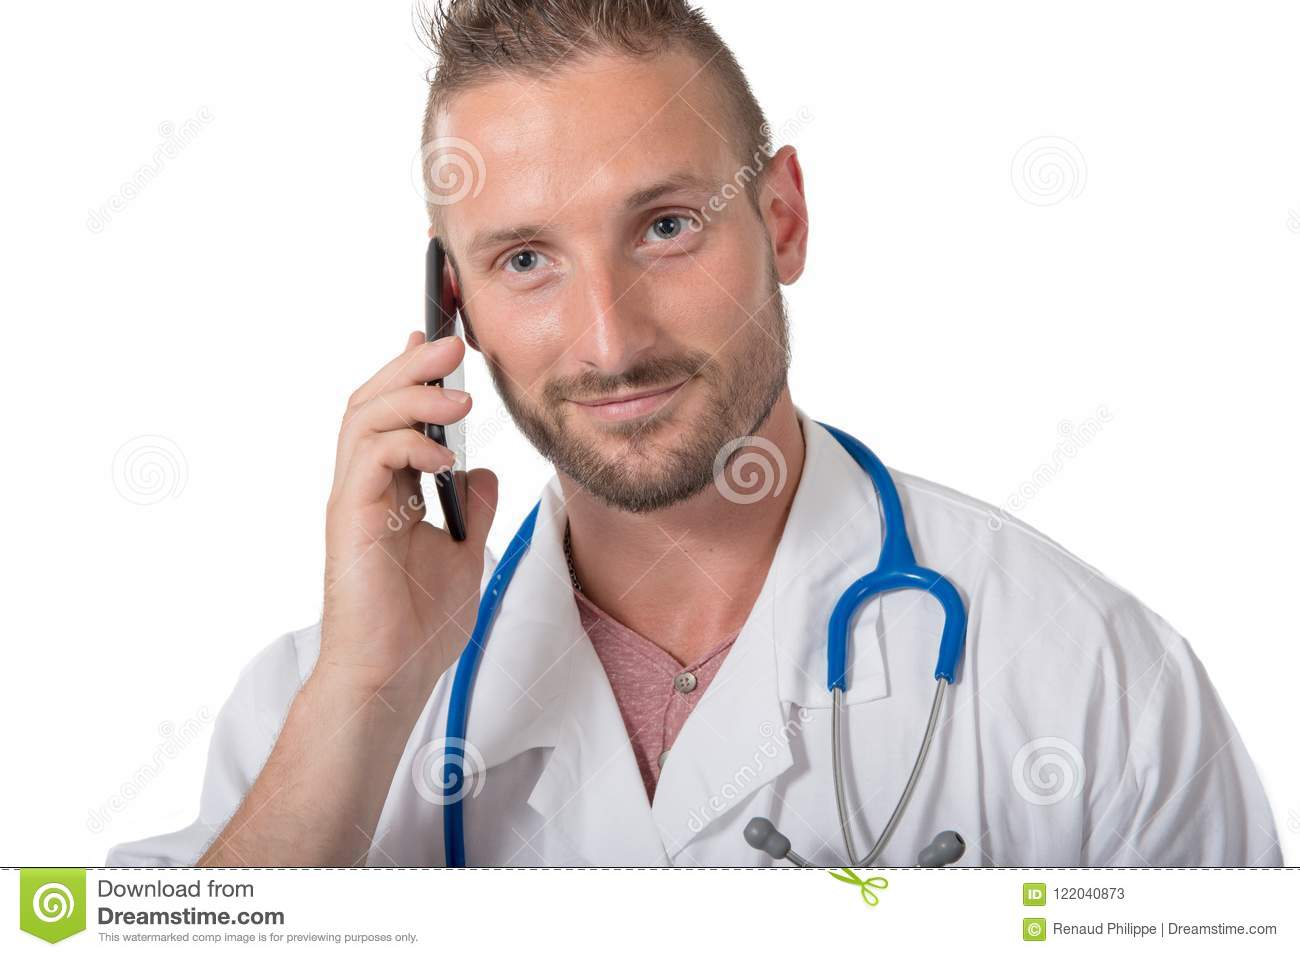phone: (412, 233, 474, 546)
talk: (320, 156, 744, 695)
